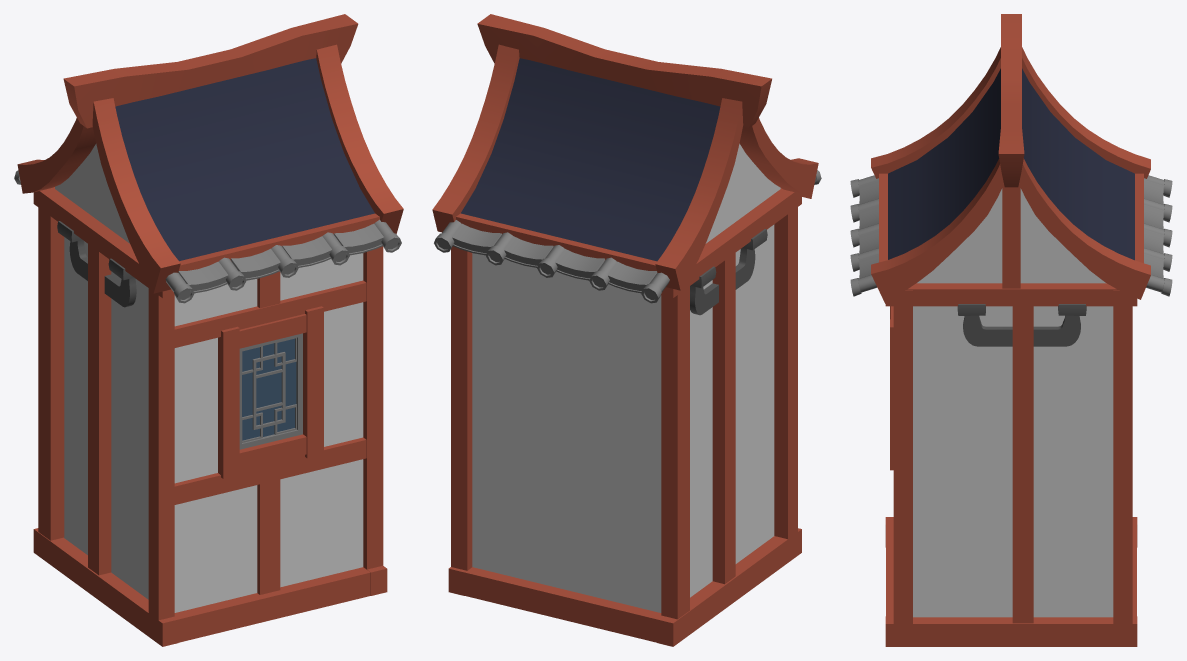
File: SM_attachment_building_01.fbx
3 views of the same model, side by side, from view 1: azimuth 30°, elevation 25°; view 2: azimuth 150°, elevation 25°; view 3: azimuth 270°, elevation 25° (orthographic). The views are drawn at different scales.
Parts seen in each view (by area): view 1: Object32480; view 2: Object32480; view 3: Object32480.
Part boxes in pixels (box(x1,y1,x2,y2)): Object32480: box(14, 14, 403, 646); Object32480: box(432, 14, 821, 646); Object32480: box(850, 14, 1172, 646).
Bounding box in the file's own units: 117 × 207 × 118.
